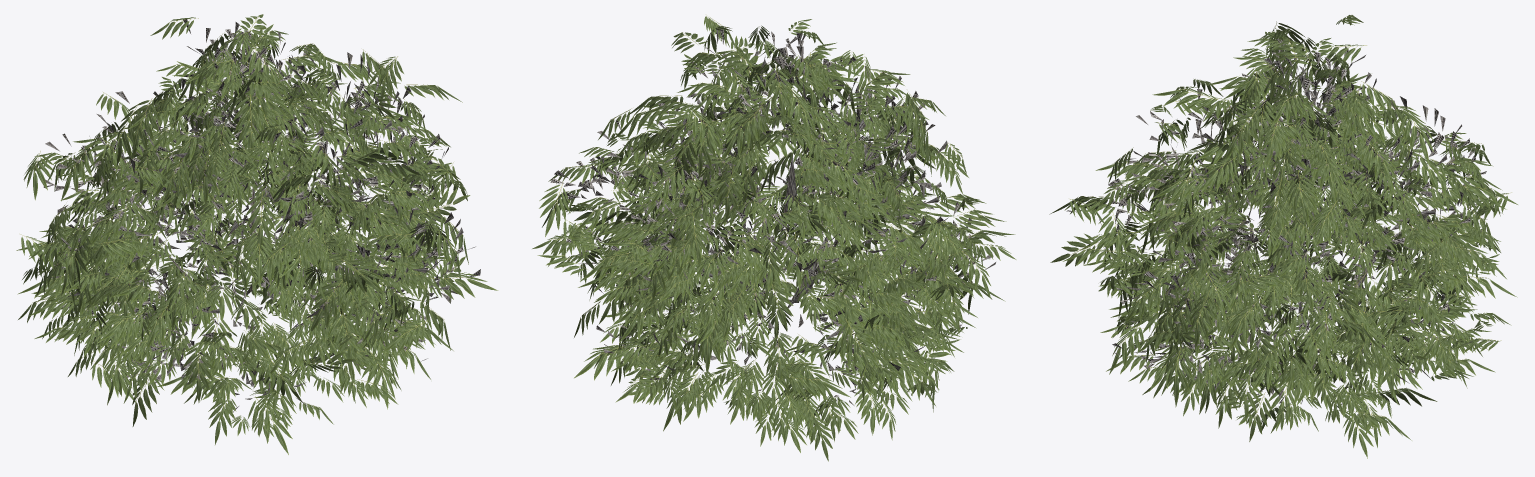
Rendered from tree-oak-wide.glb.
3 renders of one model, left to right at view 1: azimuth 30°, elevation 25°; view 2: azimuth 150°, elevation 25°; view 3: azimuth 270°, elevation 25°, orthographic. The views are drawn at different scales.
Visible parts, largest first — view 1: tree-oak-wide; view 2: tree-oak-wide; view 3: tree-oak-wide.
Boxes of the visible parts, bbox=[...] form: tree-oak-wide: bbox=[16, 14, 498, 454]; tree-oak-wide: bbox=[532, 16, 1016, 461]; tree-oak-wide: bbox=[1049, 15, 1517, 458].
Size of the model in its own units: 11.37 by 9.03 by 10.4.
2 materials, 2 textured.
